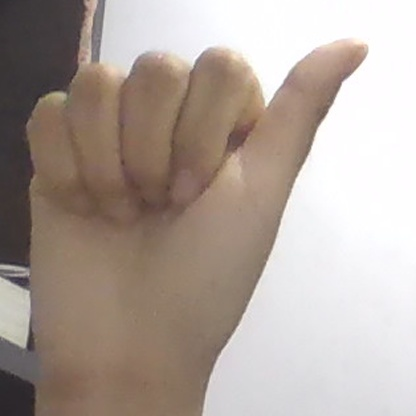A: (27, 40, 367, 390)
